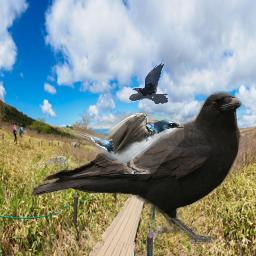Crow: (30, 91, 242, 244), (128, 62, 168, 104)
Swallow: (67, 111, 184, 174)
